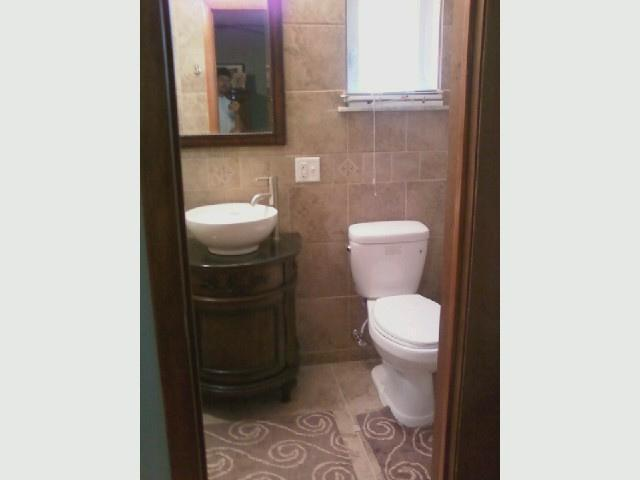Lavamanos: (178, 174, 284, 255)
Sanitario: (347, 225, 465, 426)
